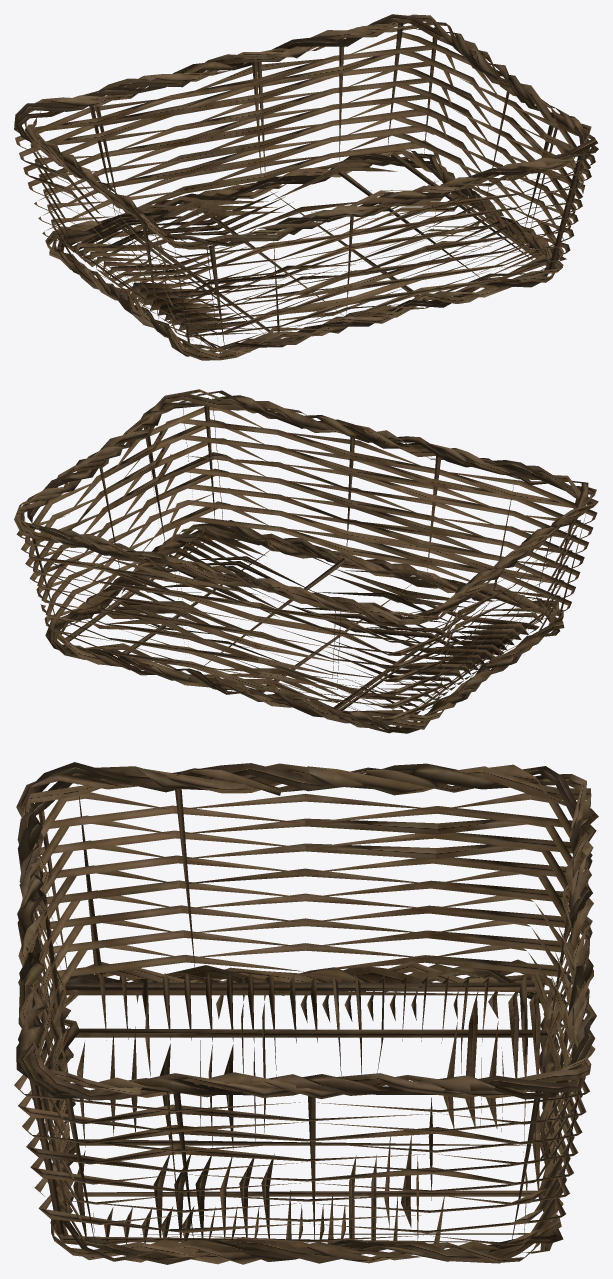
The model's file is basket.glb.
The picture shows the model from 3 angles, top to bottom: view 1: azimuth 30°, elevation 25°; view 2: azimuth 150°, elevation 25°; view 3: azimuth 270°, elevation 25°; orthographic projection. The views are drawn at different scales.
Visible parts, largest first — view 1: wicker_basket_01; view 2: wicker_basket_01; view 3: wicker_basket_01.
Boxes of the visible parts, bbox=[...] form: wicker_basket_01: bbox=[14, 14, 598, 360]; wicker_basket_01: bbox=[14, 389, 598, 733]; wicker_basket_01: bbox=[14, 762, 598, 1264].
Bounding box in the file's own units: 0.383 × 0.1174 × 0.2939.
Materials: 1 (1 with a texture image).
